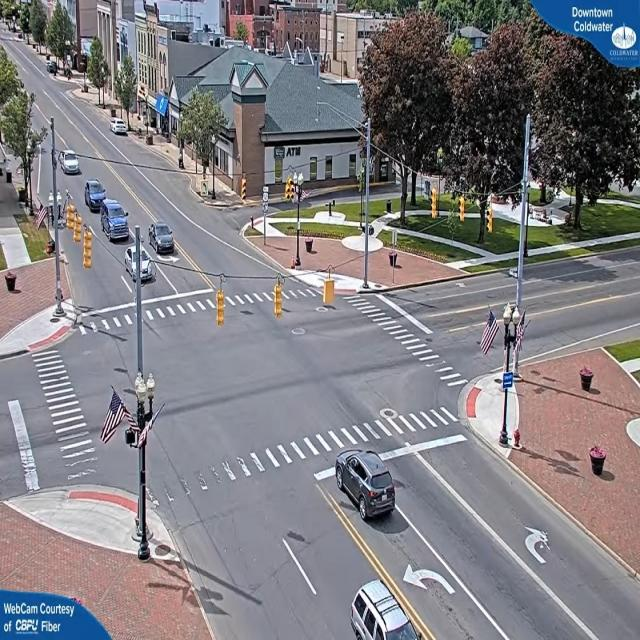car: (337, 452, 400, 522), (101, 202, 131, 242), (148, 222, 176, 257), (83, 178, 107, 214), (131, 245, 154, 282), (59, 150, 80, 176), (112, 121, 130, 138)
